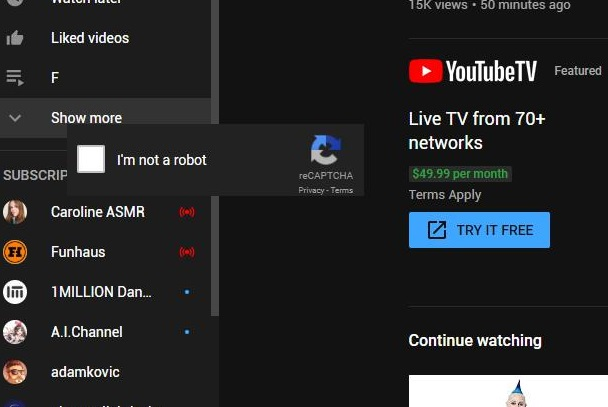captcha: (76, 143, 208, 175)
